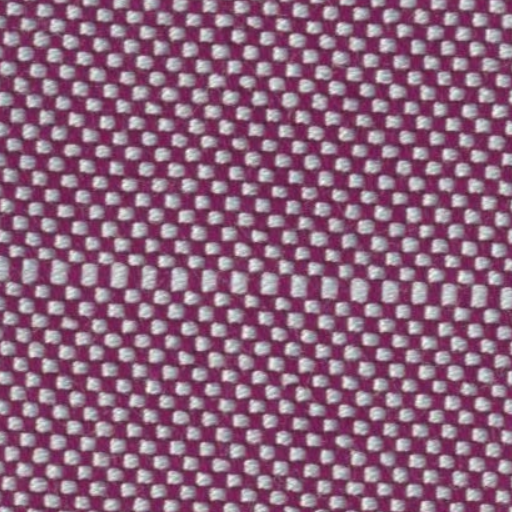TuoSha: (10, 218, 498, 342)
